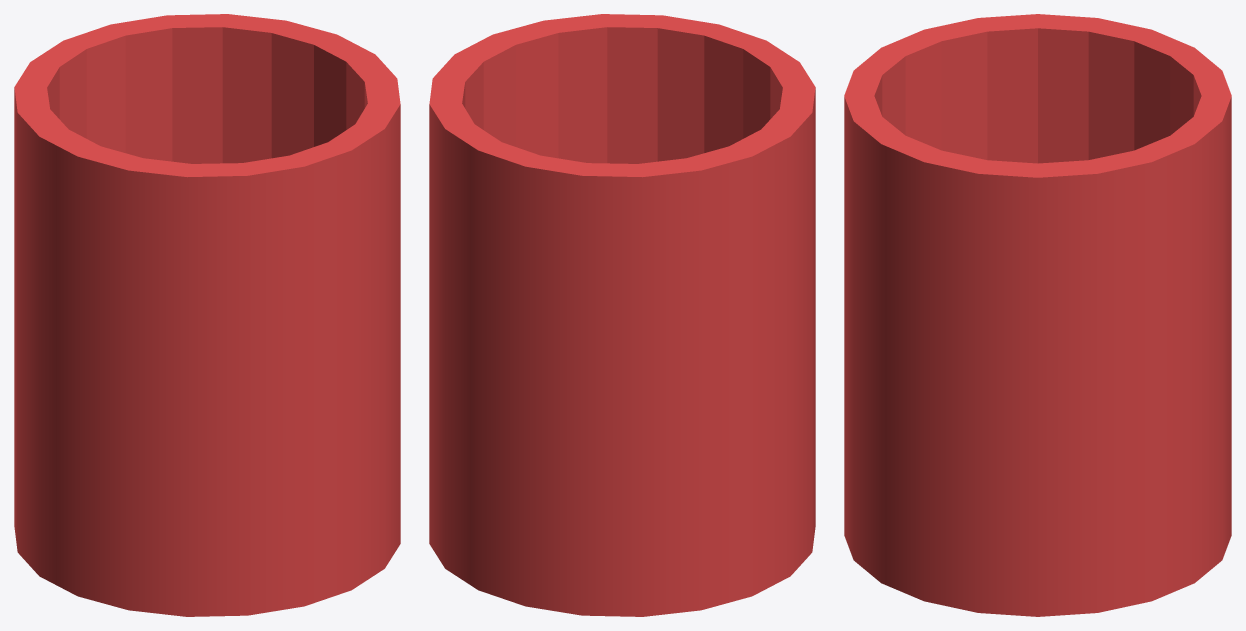
File: Canon.obj
3 views of the same model, side by side, from view 1: azimuth 30°, elevation 25°; view 2: azimuth 150°, elevation 25°; view 3: azimuth 270°, elevation 25° (orthographic).
Visible parts, largest first — view 1: Canon; view 2: Canon; view 3: Canon.
Part boxes in pixels (box(x1,y1,x2,y2)): Canon: box(14, 14, 400, 616); Canon: box(429, 14, 815, 616); Canon: box(844, 14, 1231, 616).
Size of the model in its own units: 8 by 10 by 8.
